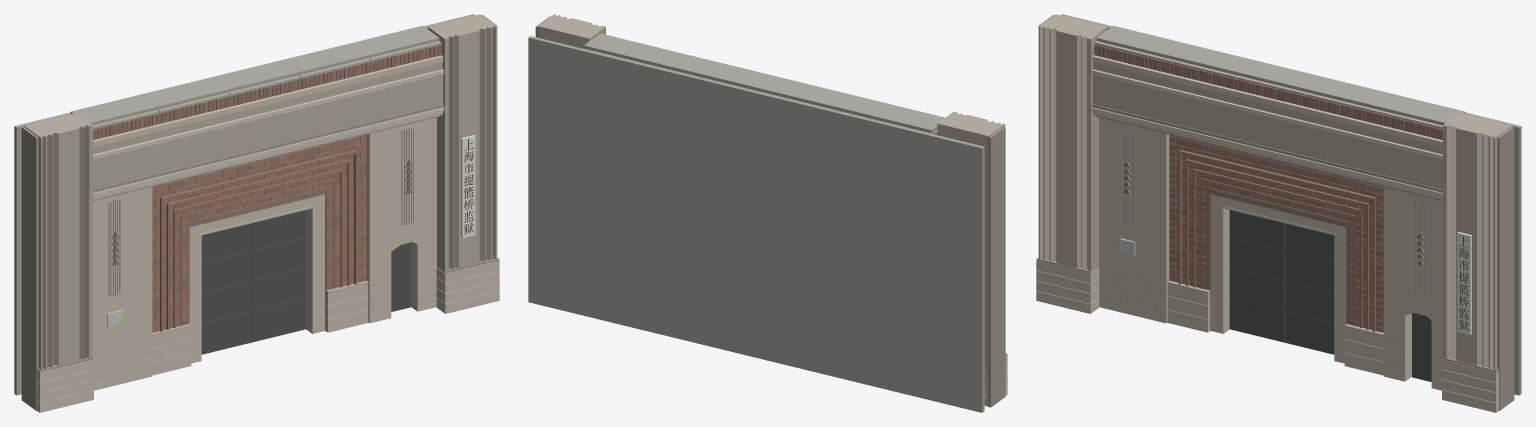
File: hongkou-tilanqiao-historic-front-lod.glb
3 views of the same model, side by side, from view 1: azimuth 30°, elevation 25°; view 2: azimuth 150°, elevation 25°; view 3: azimuth 330°, elevation 25° (orthographic).
Parts seen in each view (by area): view 1: 提篮桥旧址长阳路门楼（2015年街面）; view 2: 提篮桥旧址长阳路门楼（2015年街面）; view 3: 提篮桥旧址长阳路门楼（2015年街面）.
Part boxes in pixels (bbox=[...]): 提篮桥旧址长阳路门楼（2015年街面）: bbox=[14, 14, 499, 412]; 提篮桥旧址长阳路门楼（2015年街面）: bbox=[528, 14, 1007, 412]; 提篮桥旧址长阳路门楼（2015年街面）: bbox=[1036, 14, 1521, 412].
Bounding box in the file's own units: 17.6 × 10 × 1.75.
